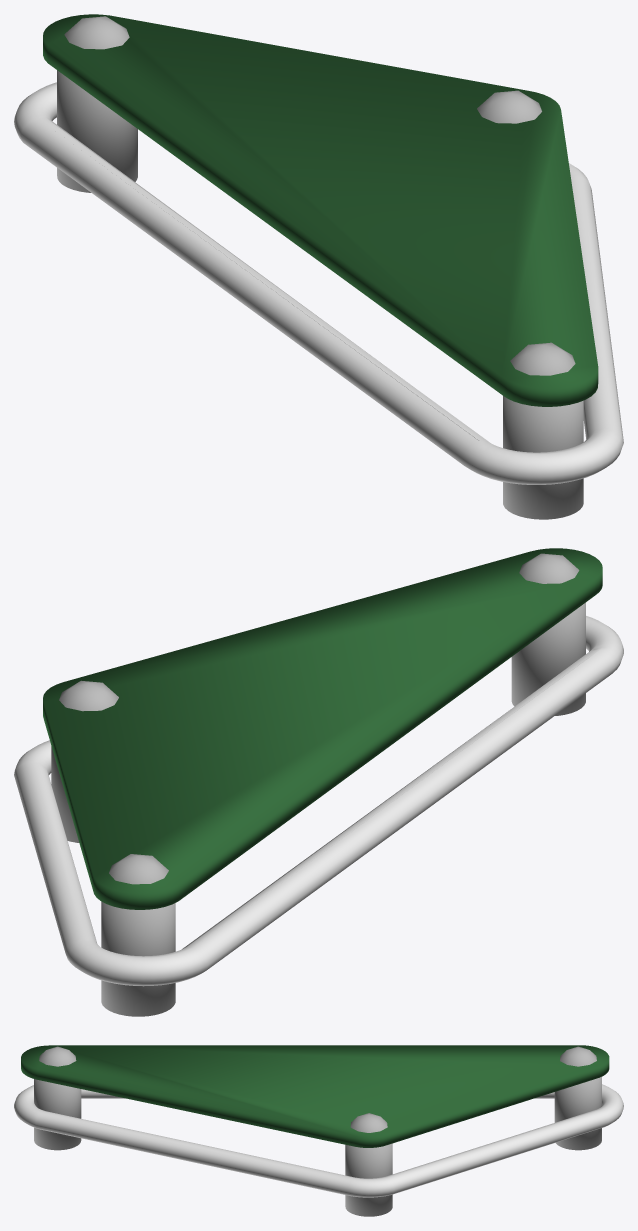
File: slingshotright.fbx
The picture shows the model from 3 angles, top to bottom: view 1: azimuth 30°, elevation 25°; view 2: azimuth 150°, elevation 25°; view 3: azimuth 270°, elevation 25°; orthographic projection. The views are drawn at different scales.
Parts seen in each view (by area): view 1: Cylinder_000; view 2: Cylinder_000; view 3: Cylinder_000.
Part boxes in pixels (x1,y1,x2,y2): Cylinder_000: (14,14,623,519); Cylinder_000: (14,548,623,1016); Cylinder_000: (14,1045,623,1216).
Bounding box in the file's own units: 0.7378 × 0.2919 × 1.76.
